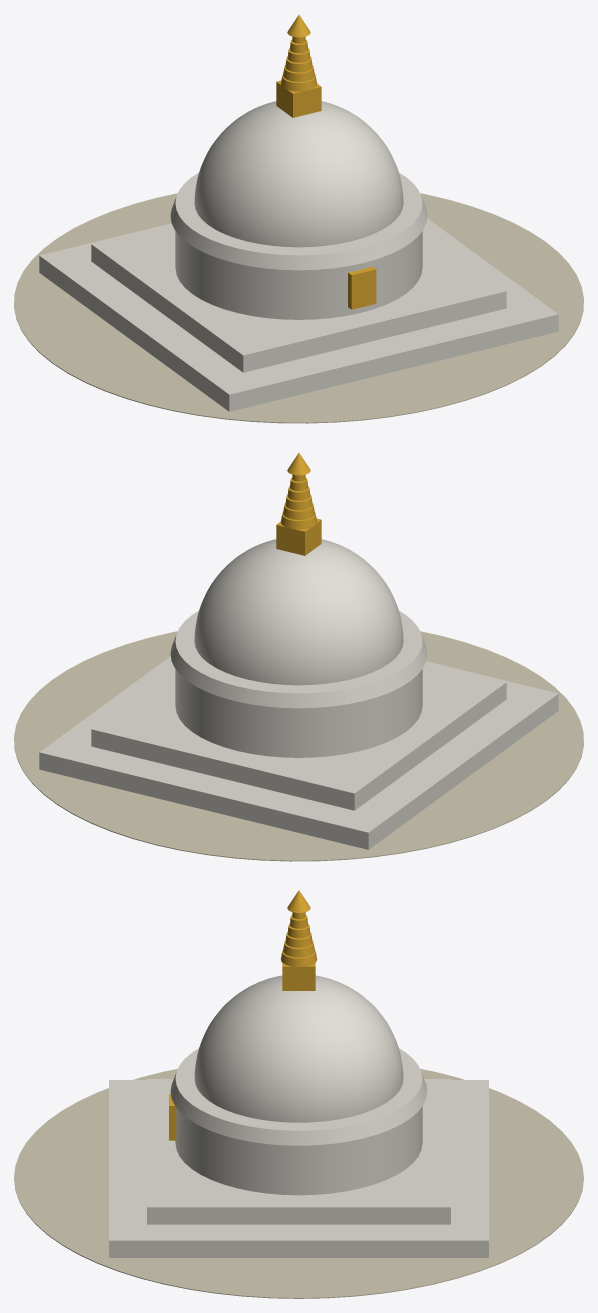
Rendered from peace-pagoda-lumbini.gltf.
3 views of the same model, one above another, from view 1: azimuth 30°, elevation 25°; view 2: azimuth 150°, elevation 25°; view 3: azimuth 270°, elevation 25° (orthographic).
Visible parts, largest first — view 1: ground, dome, object 1, object 2, object 3, object 5, harmika, buddha; view 2: ground, dome, object 1, object 2, object 3, object 5, harmika; view 3: ground, dome, object 1, object 2, object 3, object 5, harmika.
Part boxes in pixels (x1,y1,x2,y2): ground: (14,193,583,423); dome: (194,101,403,247); object 1: (39,218,558,411); object 2: (91,224,506,372); object 3: (175,231,422,319); object 5: (170,173,427,270); harmika: (276,80,321,117); buddha: (348,266,376,309); ground: (14,631,583,861); dome: (194,539,403,685); object 1: (39,656,558,849); object 2: (91,662,506,810); object 3: (175,669,422,757); object 5: (170,611,427,708); harmika: (276,518,321,555); ground: (14,1069,583,1298); dome: (194,975,403,1122); object 1: (109,1080,488,1257); object 2: (147,1079,450,1224); object 3: (175,1106,422,1195); object 5: (170,1048,427,1145); harmika: (282,963,315,990).
Size of the model in its own units: 60 by 33.5 by 60.
